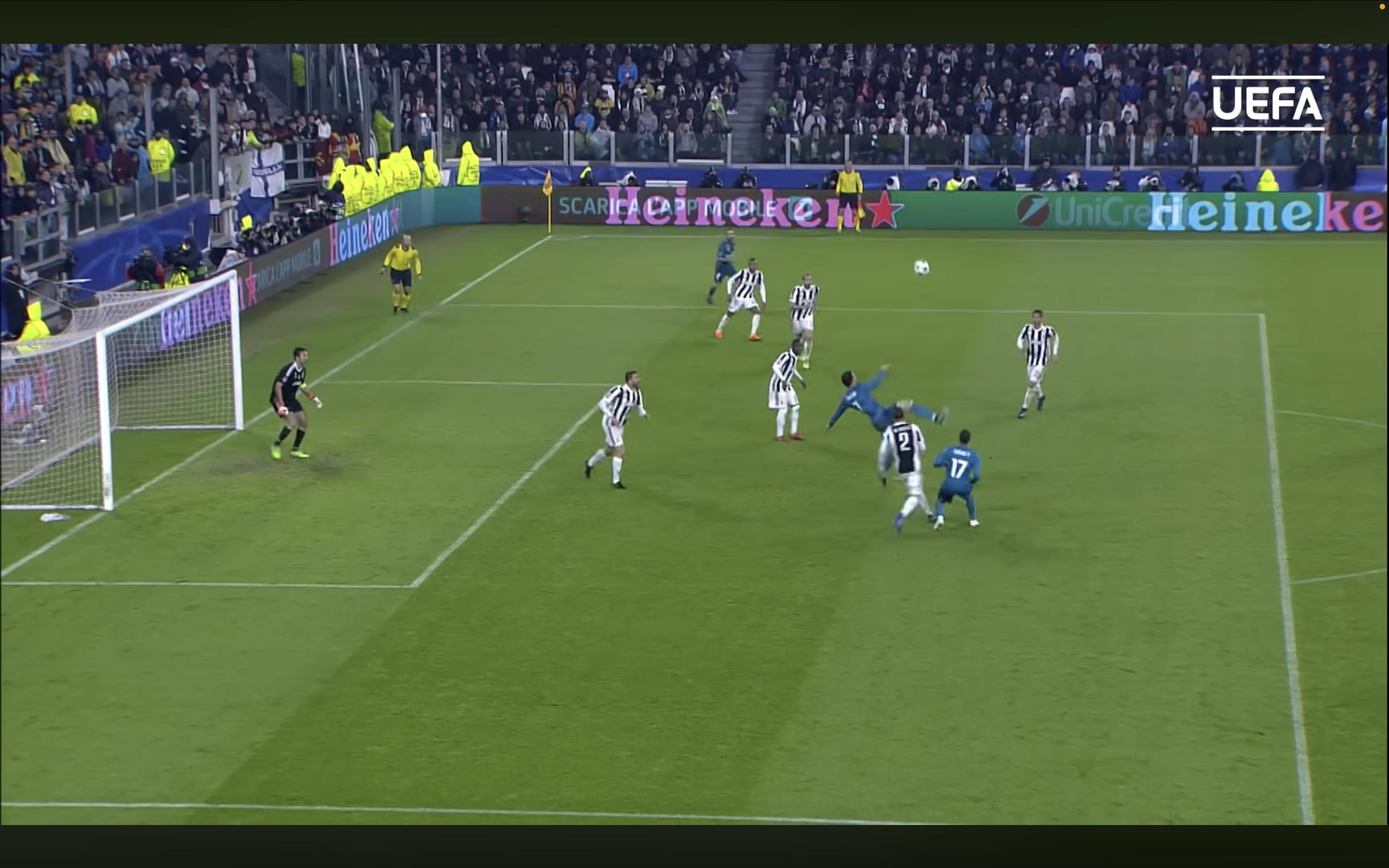ball: (914, 260, 931, 276)
goalkeeper: (270, 347, 322, 459)
player: (585, 371, 648, 489), (878, 406, 933, 534), (933, 429, 981, 529), (826, 365, 893, 433), (1017, 310, 1058, 419), (715, 259, 766, 341), (768, 339, 807, 440), (788, 273, 820, 370), (706, 229, 736, 305)
referee: (382, 235, 422, 314), (836, 162, 863, 231)
